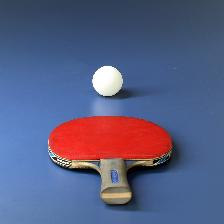WhiteBall: (90, 65, 123, 96)
